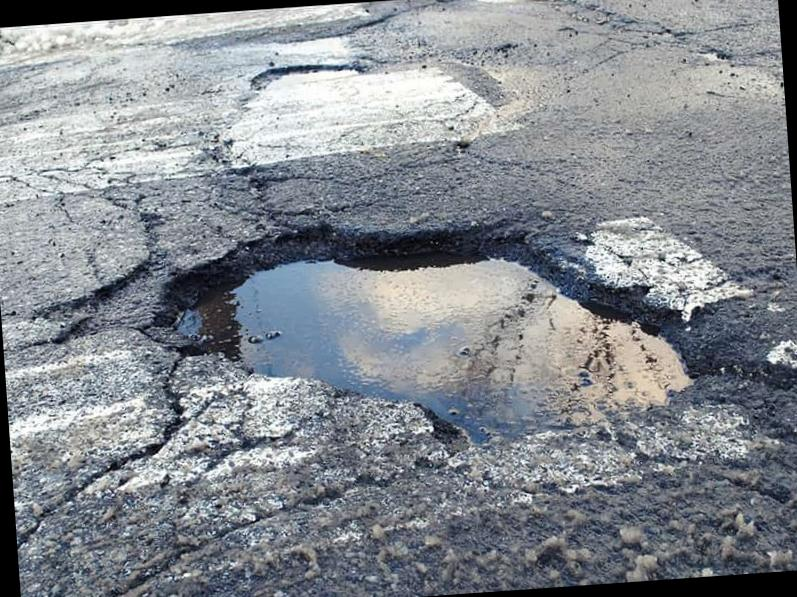pothole: (124, 191, 736, 501)
